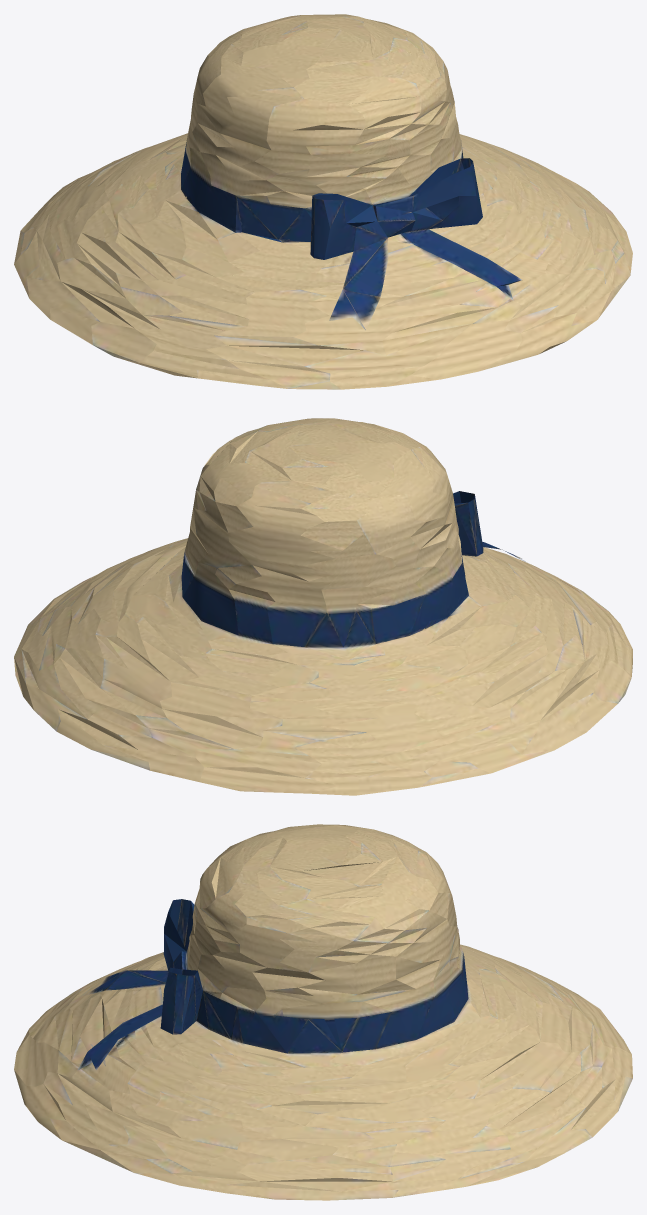
File: sun_hat.glb
3 views of the same model, one above another, from view 1: azimuth 30°, elevation 25°; view 2: azimuth 150°, elevation 25°; view 3: azimuth 270°, elevation 25° (orthographic).
Parts seen in each view (by area): view 1: Mesh_0; view 2: Mesh_0; view 3: Mesh_0.
Boxes of the visible parts, box(x1,y1,x2,y2) form: Mesh_0: box(14, 14, 632, 389); Mesh_0: box(14, 418, 632, 795); Mesh_0: box(14, 824, 632, 1200).
Bounding box in the file's own units: 0.4 × 0.1566 × 0.3994.
Materials: 1 (1 with a texture image).
